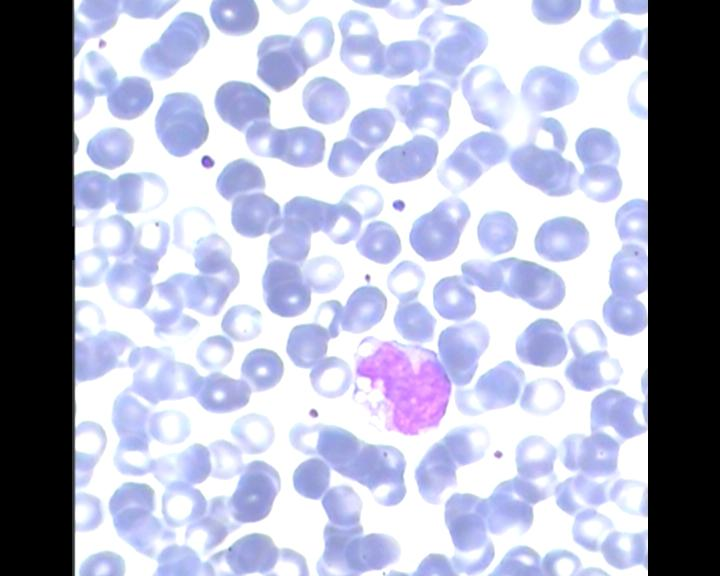mono: (343, 328, 455, 439)
